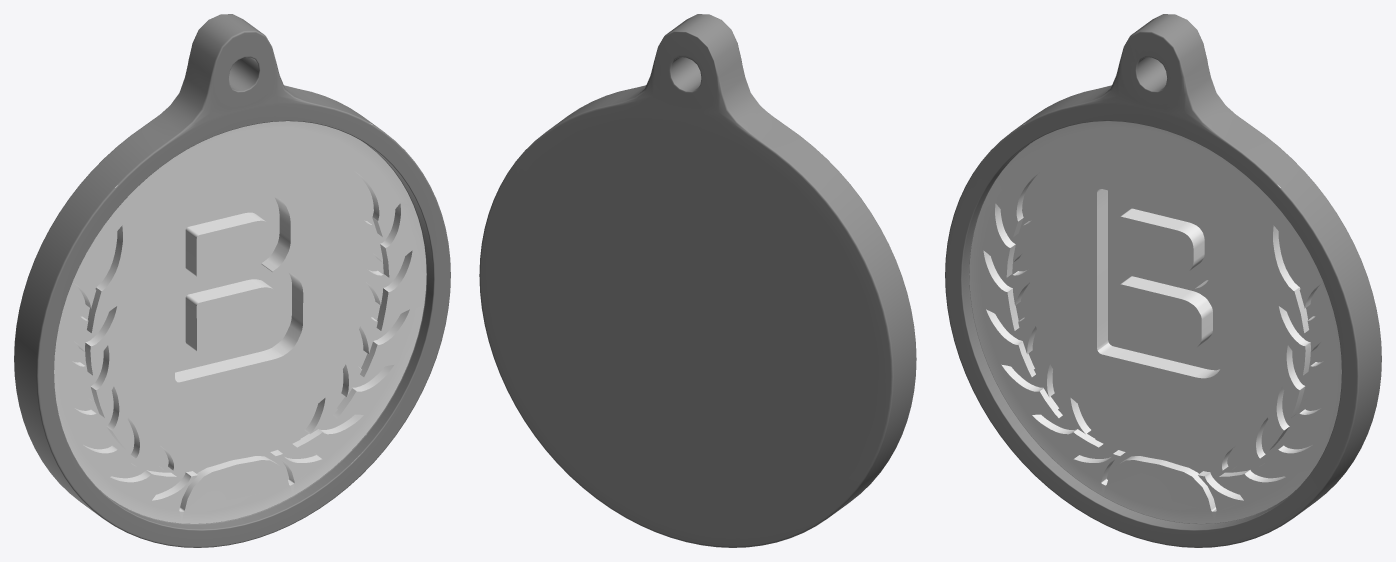
File: medalB.glb
3 renders of one model, left to right at view 1: azimuth 30°, elevation 25°; view 2: azimuth 150°, elevation 25°; view 3: azimuth 330°, elevation 25°, orthographic.
Parts seen in each view (by area): view 1: medalB; view 2: medalB; view 3: medalB.
Boxes of the visible parts, x1,y1,x2,y2 form: medalB: (14,14,450,547); medalB: (479,14,916,547); medalB: (945,14,1381,547).
Bounding box in the file's own units: 19.72 × 23.25 × 2.
1 material, 1 textured.
